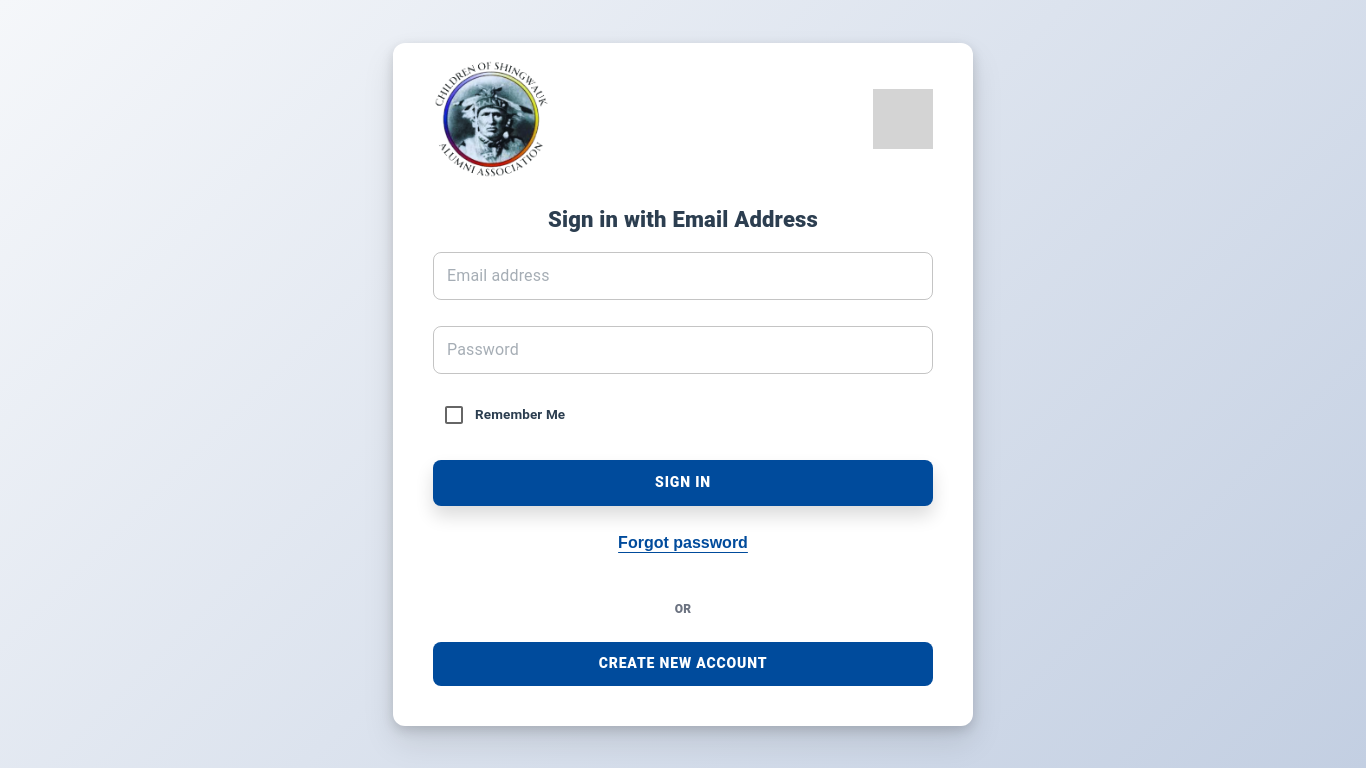
Test: Auth integration › Login: shows validation errors on empty submit
Expected: the text "Sign in with Email Address" is shown, [548,206,818,232]
Step 1. Click the button "Sign In" → [683, 483], box [433,460,933,506]
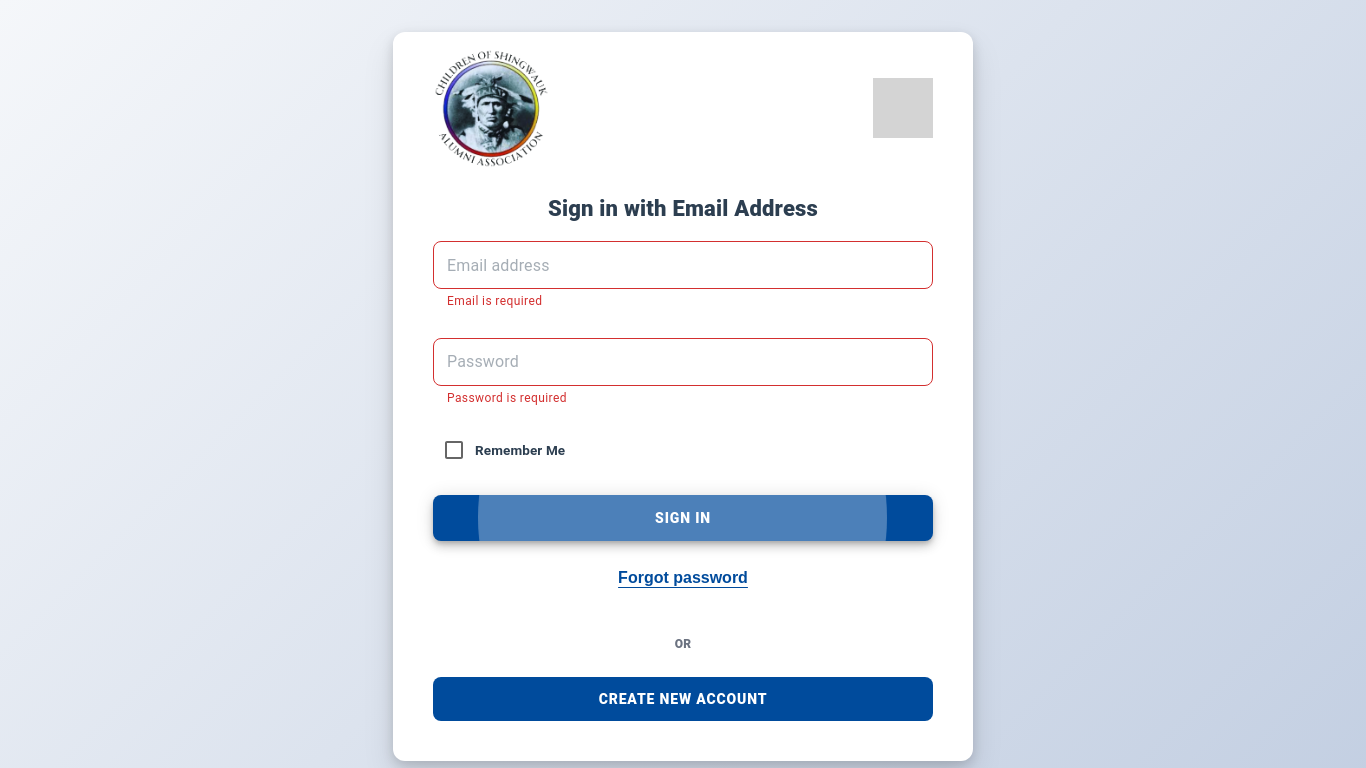
Result: the text "Email is required" is shown at [447,294,542,308]
Result: the text "Password is required" is shown at [447,391,567,405]
